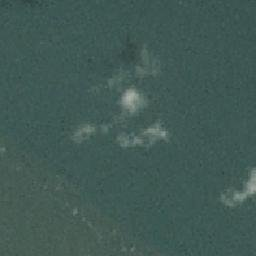cloud: (219, 161, 255, 206), (121, 121, 168, 148), (119, 80, 143, 112), (136, 47, 153, 78), (72, 123, 95, 144), (99, 119, 118, 132)
